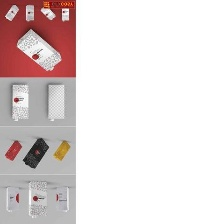carton: (13, 26, 65, 74), (45, 80, 69, 122), (7, 81, 32, 121), (22, 136, 51, 170), (25, 179, 49, 218), (4, 182, 23, 215), (52, 136, 74, 162), (53, 185, 73, 213), (2, 136, 22, 163), (3, 1, 21, 23), (38, 2, 57, 22), (22, 2, 36, 23), (59, 4, 71, 23)
